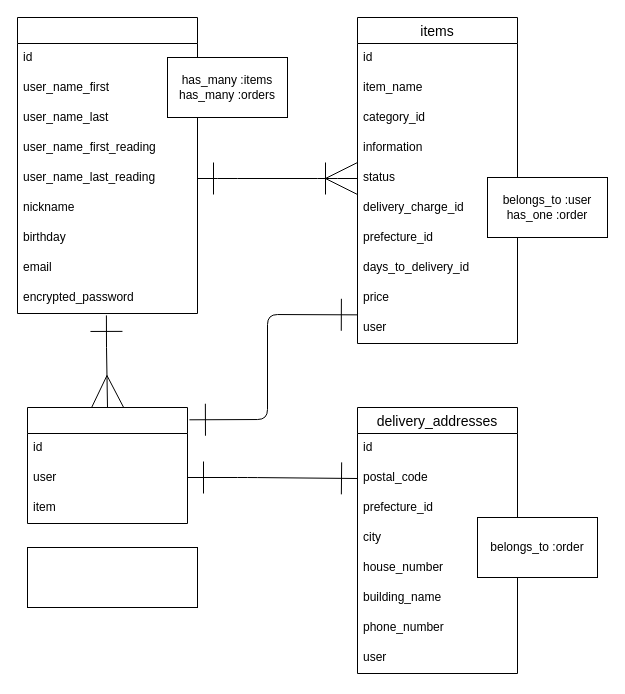
The diagram is 625 pixels wide and 694 high, and some of its shapes have lost their labels. The shapes that lost their labels are listed below. From the top down, each one's box as (x1, y1, x2, y2) in pixels, then its label:
(16, 16, 198, 314): users
(26, 406, 188, 524): orders
(26, 546, 198, 608): belongs_to :user belongs_to :item has_one :delivery_address
